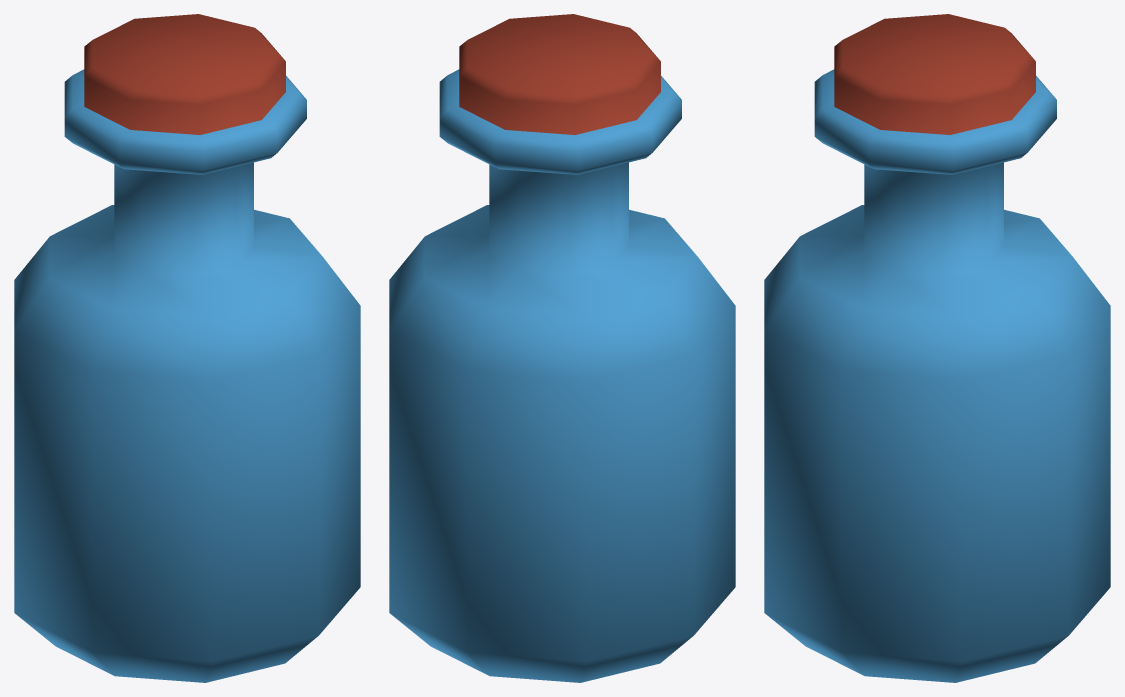
File: MagicBottle.fbx
3 views of the same model, side by side, from view 1: azimuth 30°, elevation 25°; view 2: azimuth 150°, elevation 25°; view 3: azimuth 270°, elevation 25° (orthographic).
Parts seen in each view (by area): view 1: GlassBottle_Empty, Cork; view 2: GlassBottle_Empty, Cork; view 3: GlassBottle_Empty, Cork.
Part boxes in pixels (x1=…): GlassBottle_Empty: x1=14, y1=69, x2=360, y2=682; Cork: x1=84, y1=14, x2=285, y2=134; GlassBottle_Empty: x1=389, y1=69, x2=735, y2=682; Cork: x1=459, y1=14, x2=660, y2=134; GlassBottle_Empty: x1=764, y1=69, x2=1110, y2=682; Cork: x1=834, y1=14, x2=1035, y2=134.
Bounding box in the file's own units: 40 × 71.92 × 39.39.
